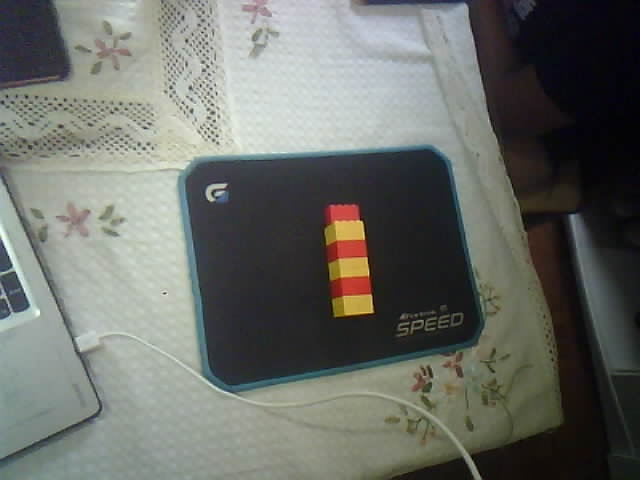lego: (321, 203, 375, 320)
